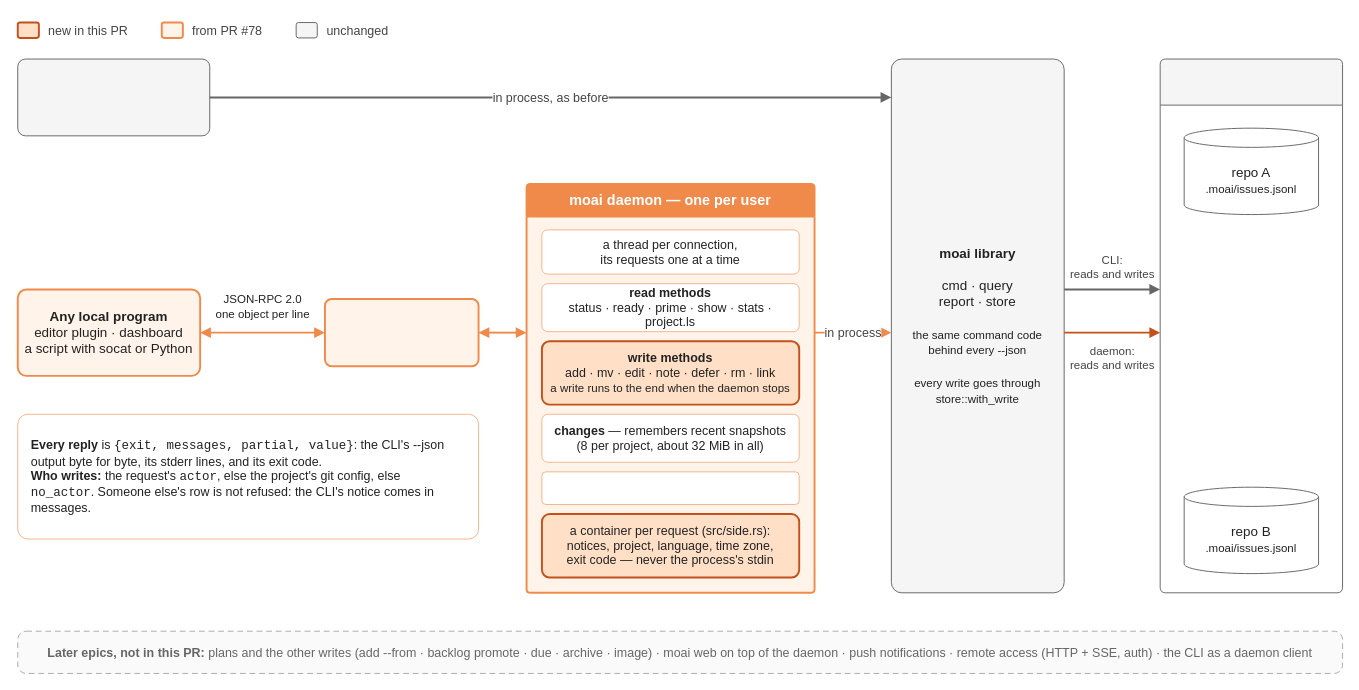
Some shapes in this 1359 by 690 pixel diagram are drawn without their labels. Each missing label, with the box of its shape:
daemon.socket Unix socket, mode 0700 $XDG_RUNTIME_DIR/moai: (324, 298, 479, 367)
hello · ping · daemon.shutdown: (541, 471, 799, 504)
moai CLI people · agents · hooks: (17, 58, 210, 136)
registered projects moai project add <dir>: (1159, 58, 1343, 593)
